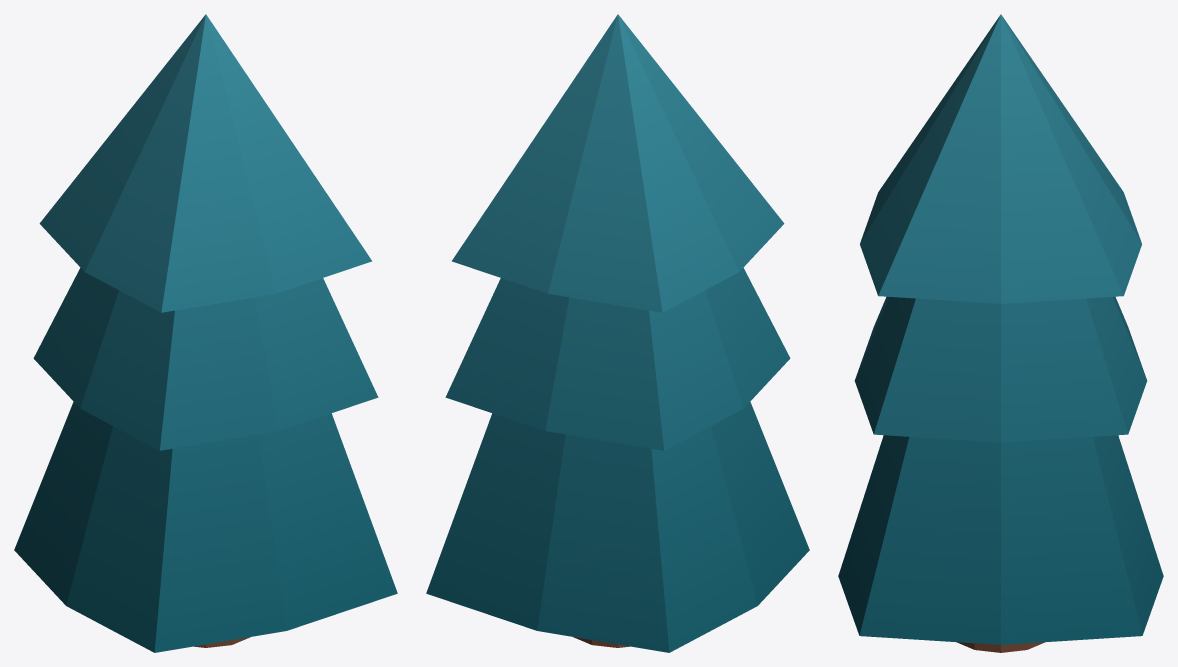
File: Tree_23_gradient_blue_vc.fbx
3 views of the same model, side by side, from view 1: azimuth 30°, elevation 25°; view 2: azimuth 150°, elevation 25°; view 3: azimuth 270°, elevation 25° (orthographic).
Parts seen in each view (by area): view 1: Tree_23_gradient_blue_vc; view 2: Tree_23_gradient_blue_vc; view 3: Tree_23_gradient_blue_vc.
Boxes of the visible parts, bbox=[...] form: Tree_23_gradient_blue_vc: bbox=[14, 14, 397, 652]; Tree_23_gradient_blue_vc: bbox=[426, 14, 809, 652]; Tree_23_gradient_blue_vc: bbox=[838, 14, 1163, 652].
Bounding box in the file's own units: 90.1 × 188 × 90.1.
